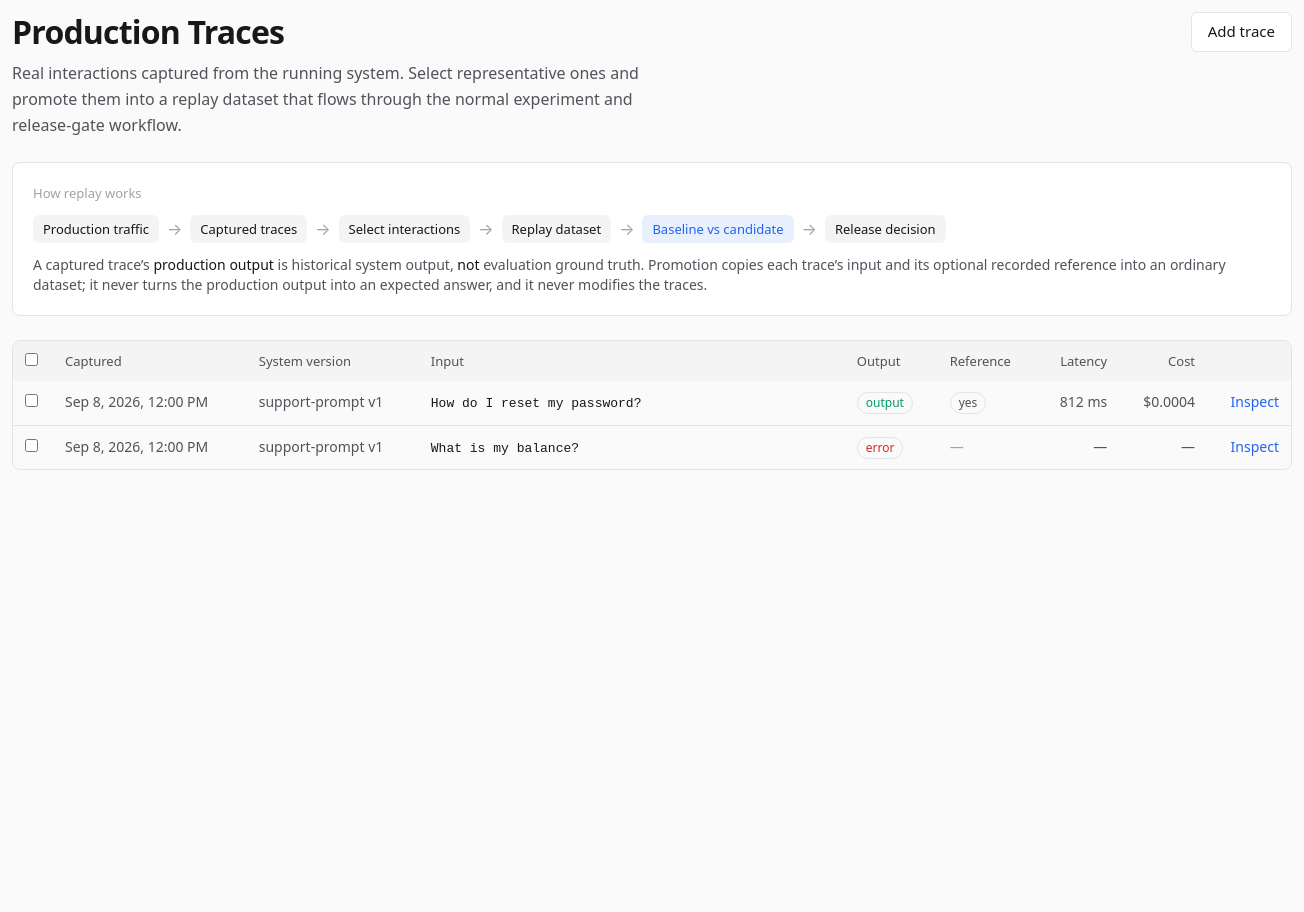
Test case: ProductionTracesPage › promotes selected traces and links into the dataset and experiment flow
Expected: the text "How do I reset my password?" is shown, [431,396,641,411]
Click the checkbox named "Select trace".
click(32, 401)  # box [25,394,38,407]
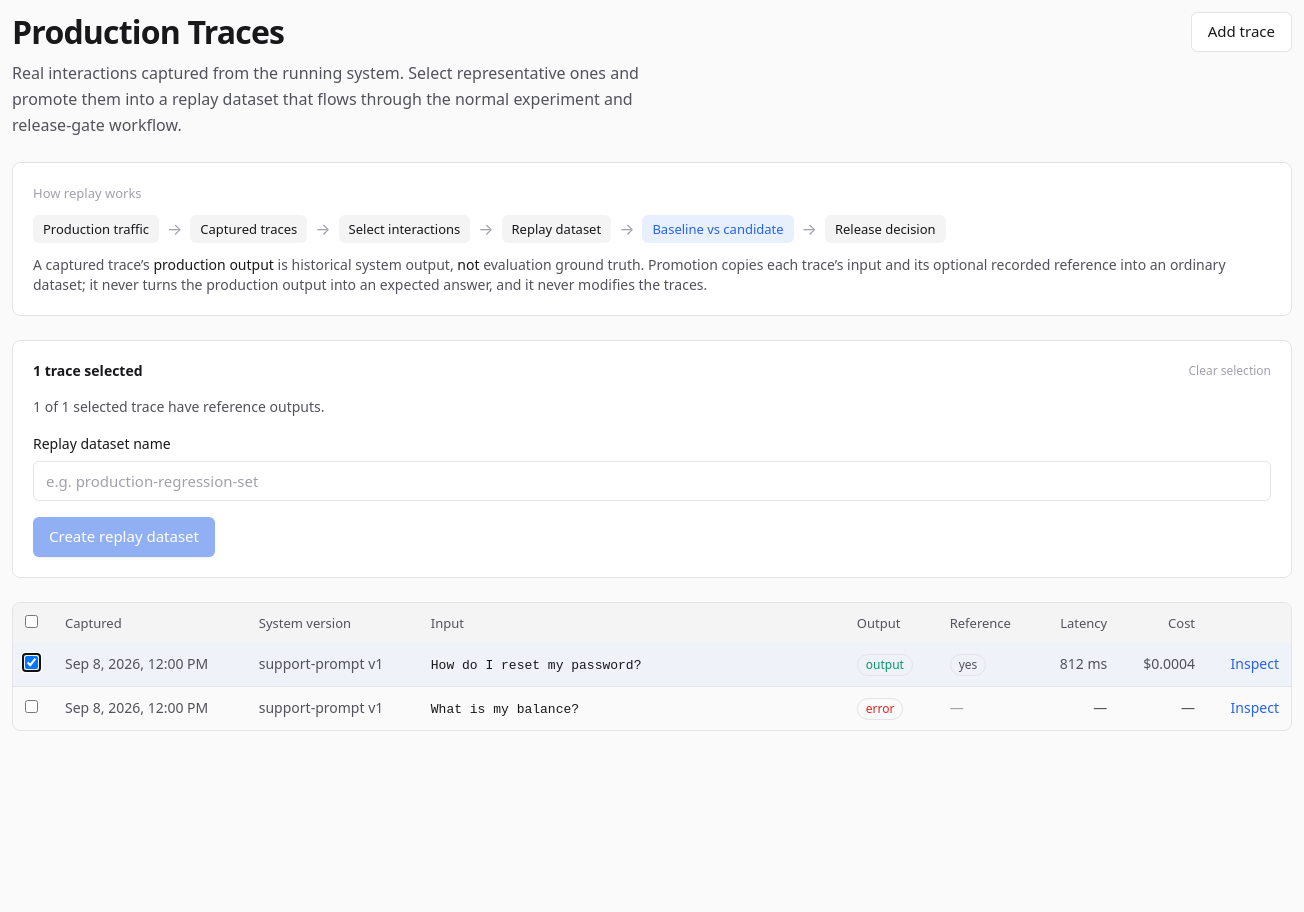
Click the checkbox named "Select trace".
click(32, 707)  # box [25,700,38,713]
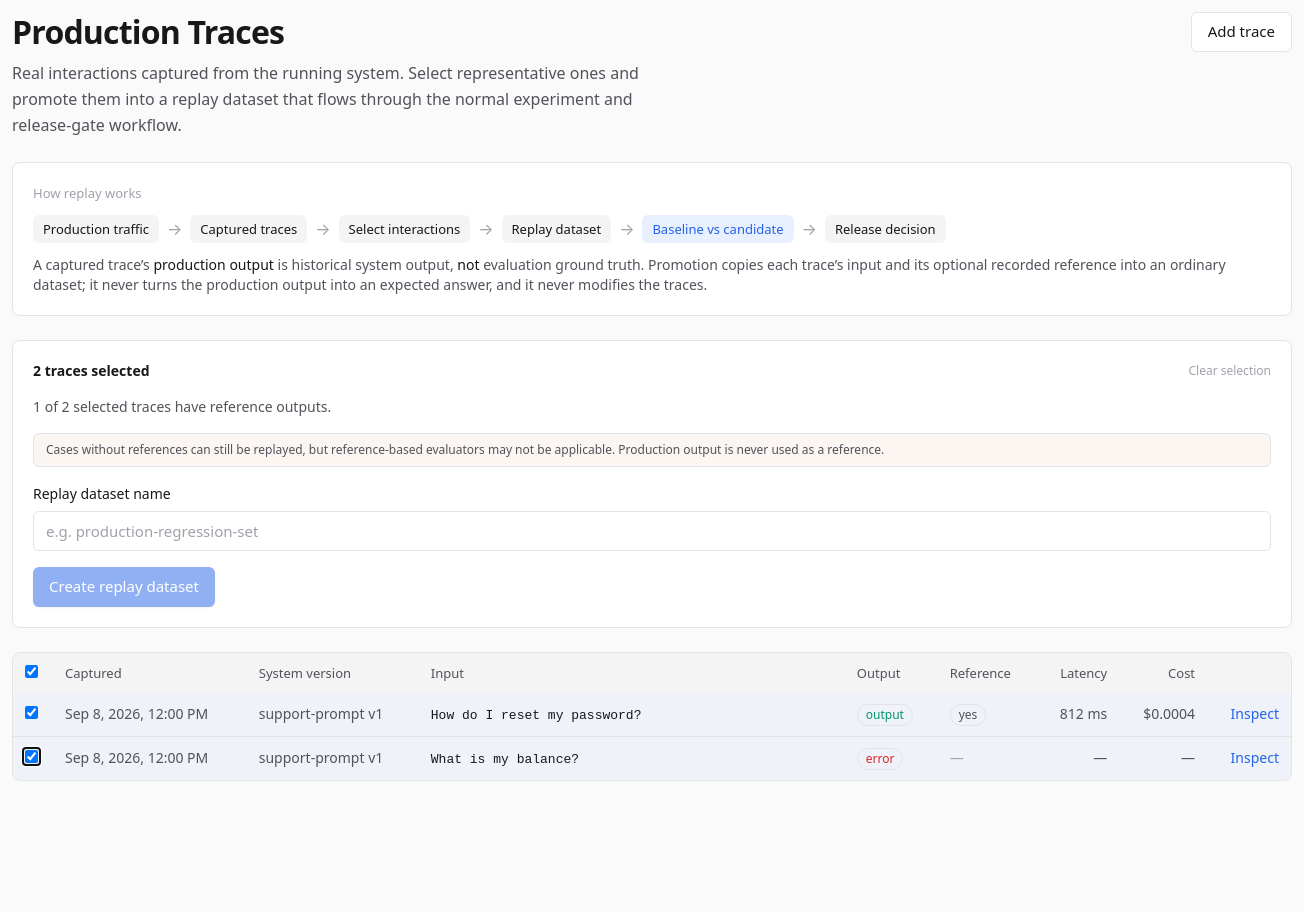
Type "production-regression-set" into the field labelled "Replay dataset name".
click(652, 531); type("production-regression-set")  # box [33,511,1271,551]
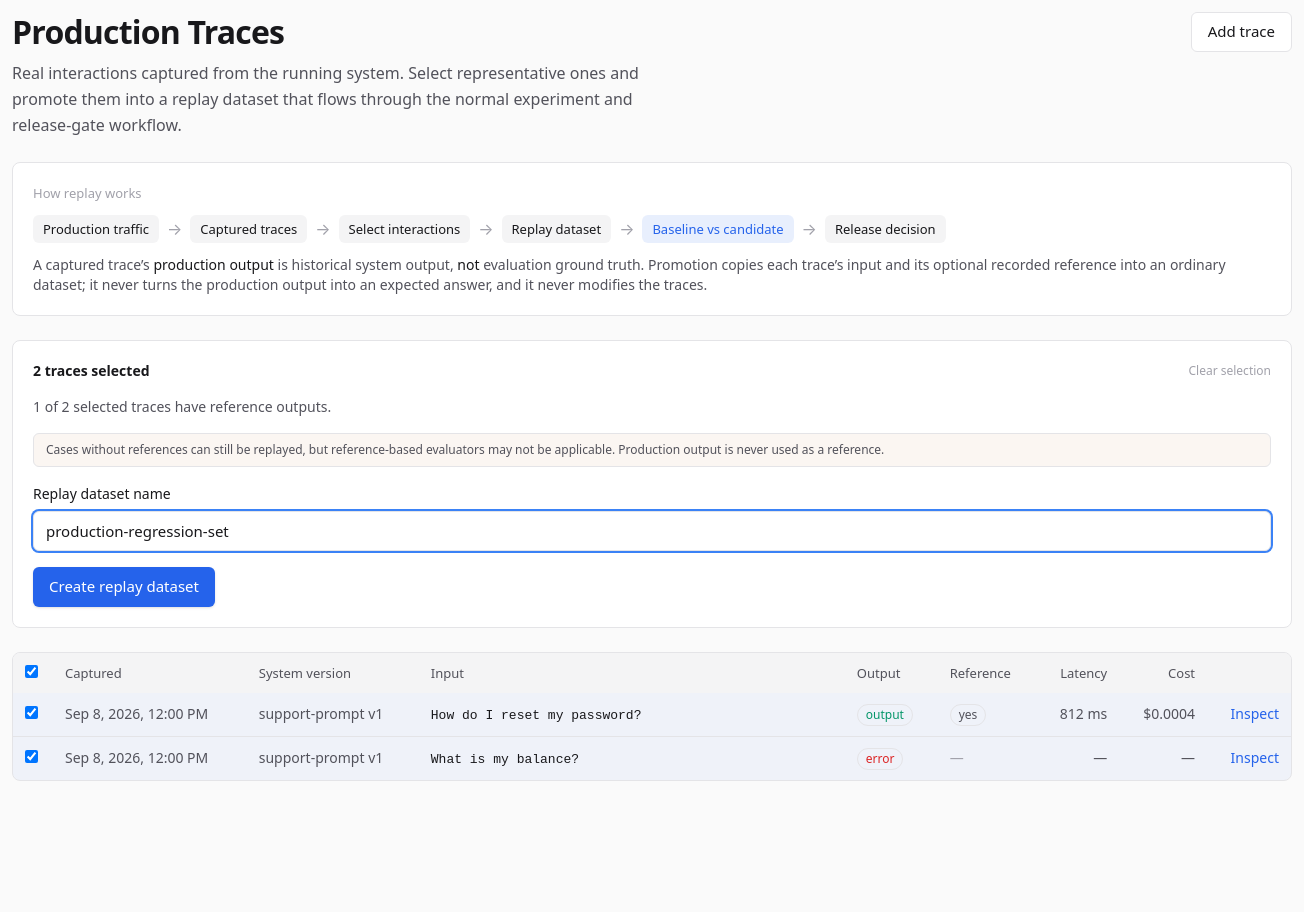
Click the button "Create replay dataset".
click(124, 587)  # box [33,567,215,607]
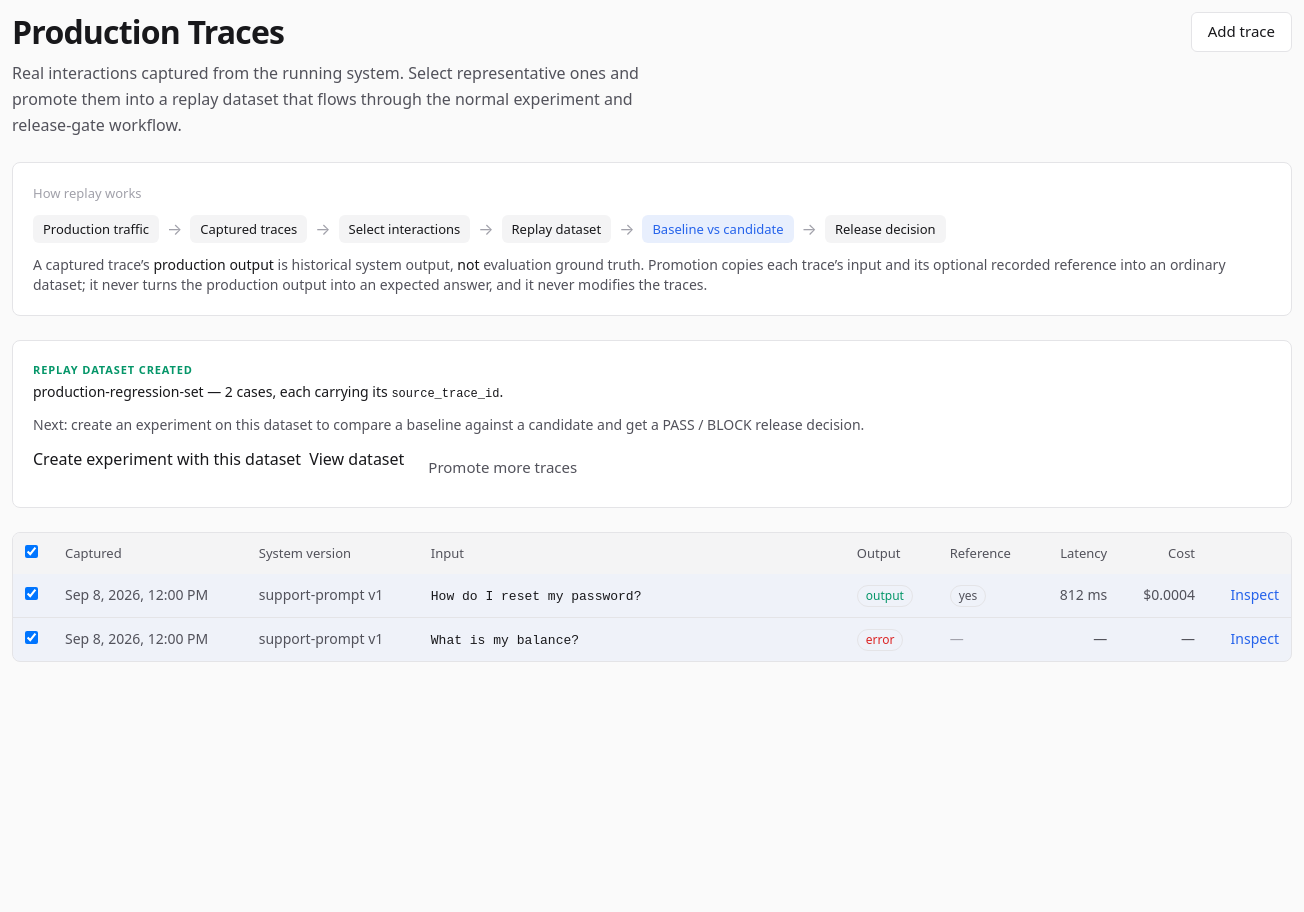
Expected: the text "Replay dataset created" is shown, [33,362,193,377]
